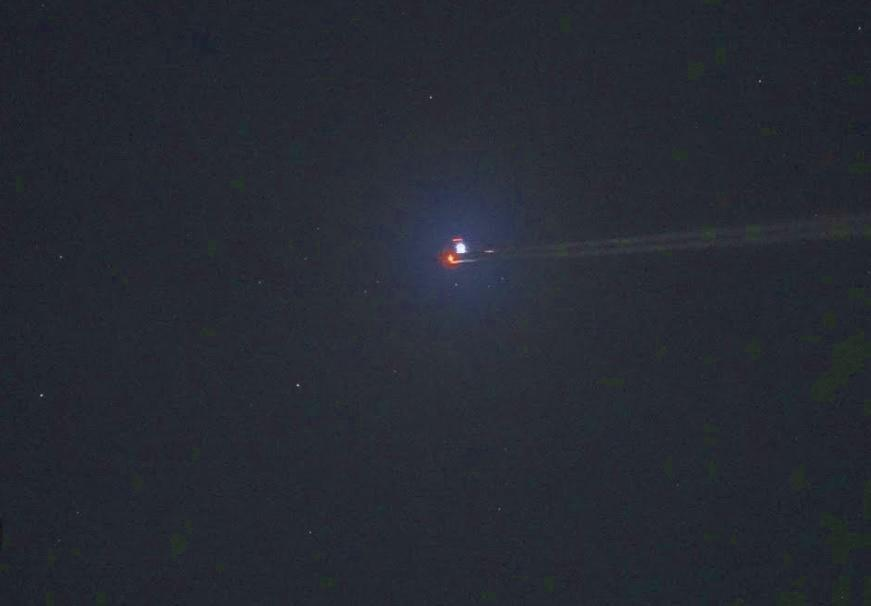Plane: (357, 210, 870, 279)
